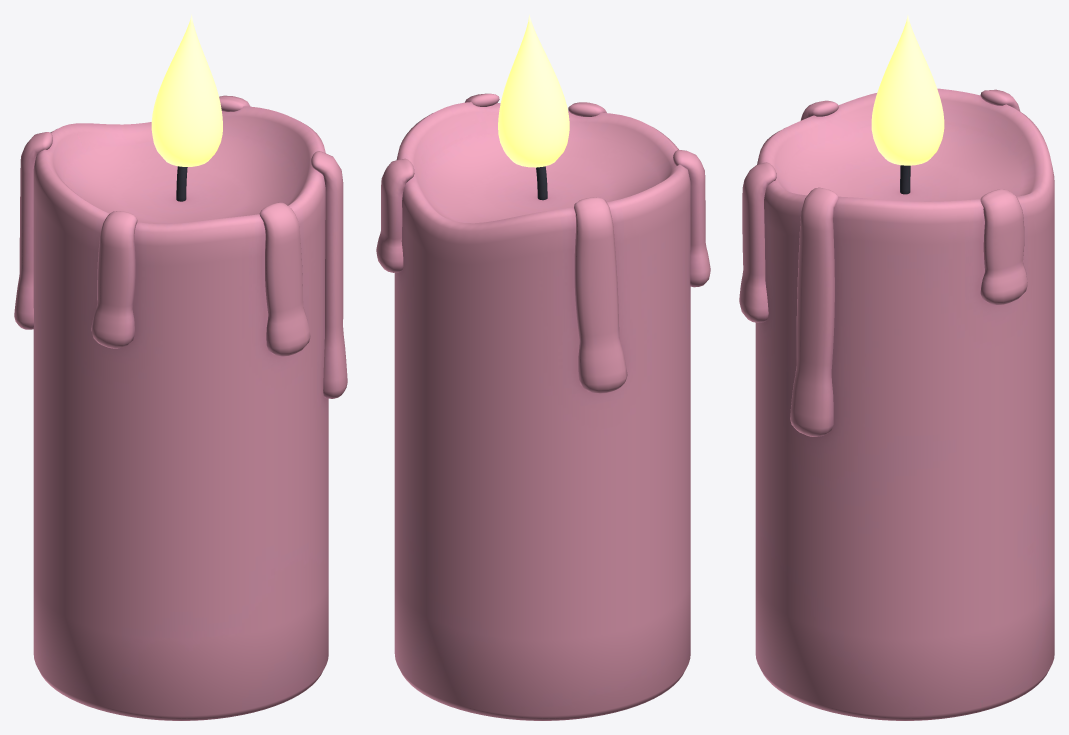
The model's file is candle.glb.
3 renders of one model, left to right at view 1: azimuth 30°, elevation 25°; view 2: azimuth 150°, elevation 25°; view 3: azimuth 270°, elevation 25°, orthographic.
Visible parts, largest first — view 1: candle_body, candle_flame; view 2: candle_body, candle_flame; view 3: candle_body, candle_flame.
Part boxes in pixels (bbox=[...]): candle_body: bbox=[14, 95, 347, 720]; candle_flame: bbox=[151, 14, 222, 166]; candle_body: bbox=[376, 93, 710, 720]; candle_flame: bbox=[498, 14, 569, 167]; candle_body: bbox=[739, 88, 1054, 720]; candle_flame: bbox=[871, 15, 944, 165].
Size of the model in its own units: 0.064 by 0.1543 by 0.0675.
2 materials, 1 textured.
